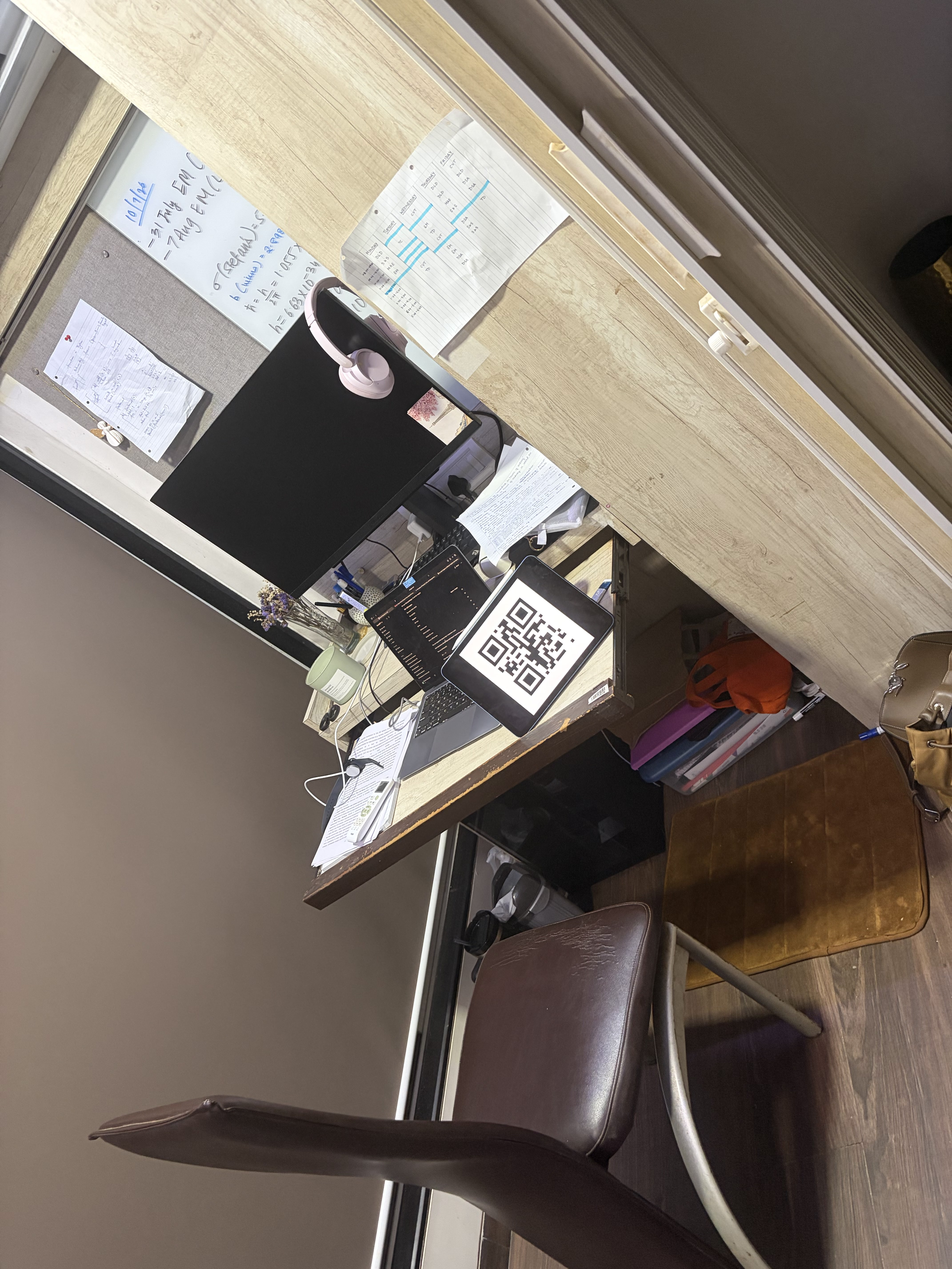QR: (437, 577, 586, 699)
